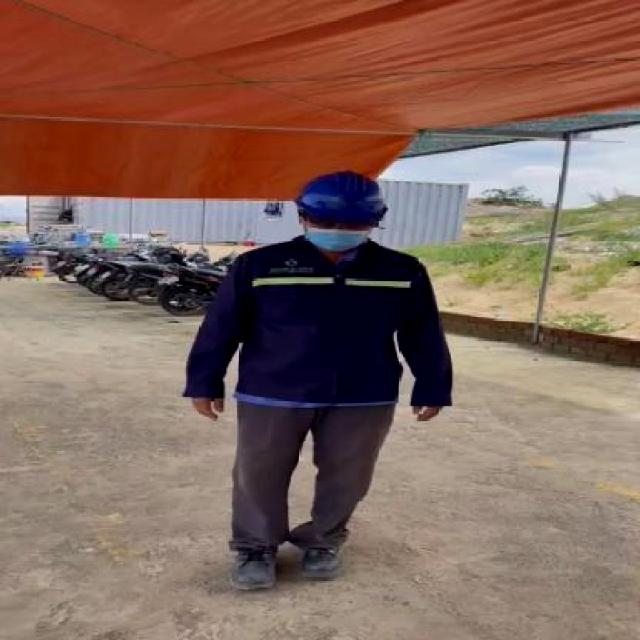face_mask: (300, 215, 378, 251)
hand_noglove: (185, 389, 230, 420), (404, 397, 450, 426)
head_helmet: (292, 169, 390, 222)
person: (180, 173, 454, 609)
shoes: (291, 524, 357, 584), (224, 538, 285, 597)
